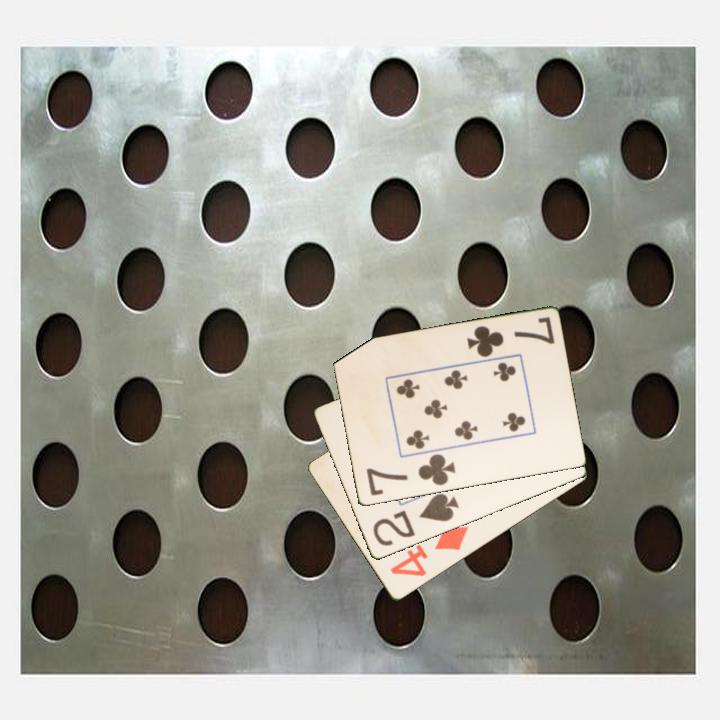2s: (369, 490, 462, 549)
4d: (387, 522, 471, 580)
7c: (363, 450, 458, 499), (463, 313, 557, 360)
